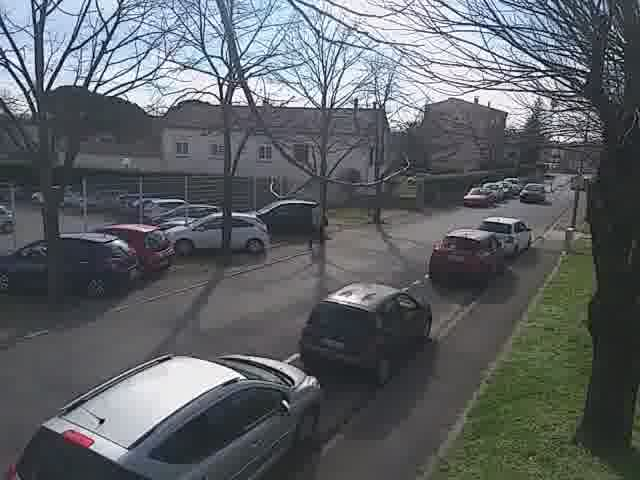persona: (307, 196, 329, 254)
